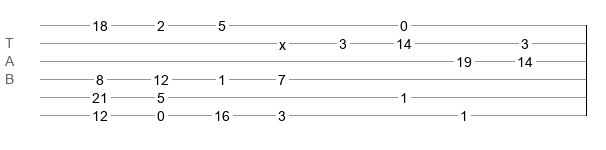0: (157, 108, 165, 118), (400, 18, 408, 28)
1: (218, 72, 226, 82), (400, 90, 408, 100), (460, 108, 468, 118)
12: (92, 108, 108, 118), (153, 72, 169, 82)
14: (396, 36, 412, 46), (517, 54, 533, 64)
16: (214, 108, 230, 118)
18: (92, 18, 108, 28)
19: (456, 54, 472, 64)
2: (157, 18, 165, 28)
21: (92, 90, 108, 100)
3: (278, 108, 286, 118), (339, 36, 347, 46), (521, 36, 529, 46)
5: (157, 90, 165, 100), (218, 18, 226, 28)
7: (278, 72, 286, 82)
8: (96, 72, 104, 82)
x: (279, 37, 286, 45)
